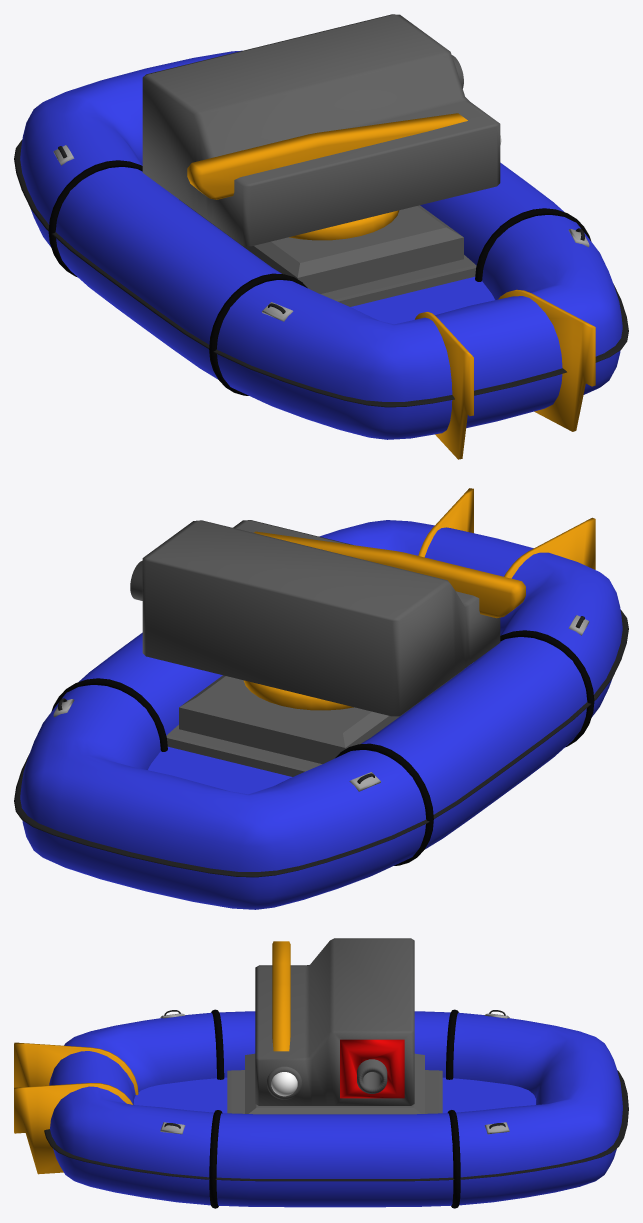
File: boat2.fbx
3 views of the same model, one above another, from view 1: azimuth 30°, elevation 25°; view 2: azimuth 150°, elevation 25°; view 3: azimuth 270°, elevation 25° (orthographic). The views are drawn at different scales.
Parts seen in each view (by area): view 1: Cube; view 2: Cube; view 3: Cube.
Part boxes in pixels (left/top/right/bottom): Cube: left=14, top=14, right=628, bottom=459; Cube: left=14, top=488, right=628, bottom=909; Cube: left=14, top=938, right=628, bottom=1208.
Size of the model in its own units: 1384 by 754 by 2487.
